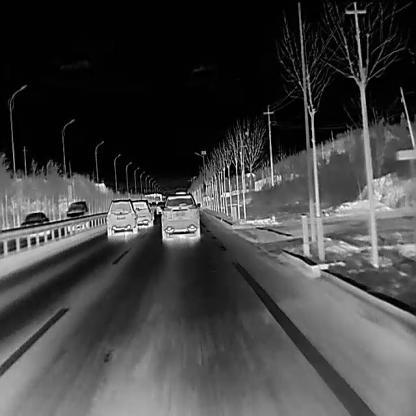car: (159, 191, 200, 244), (105, 196, 138, 238), (18, 211, 52, 242), (64, 200, 92, 231), (131, 199, 153, 229), (155, 200, 165, 214)
